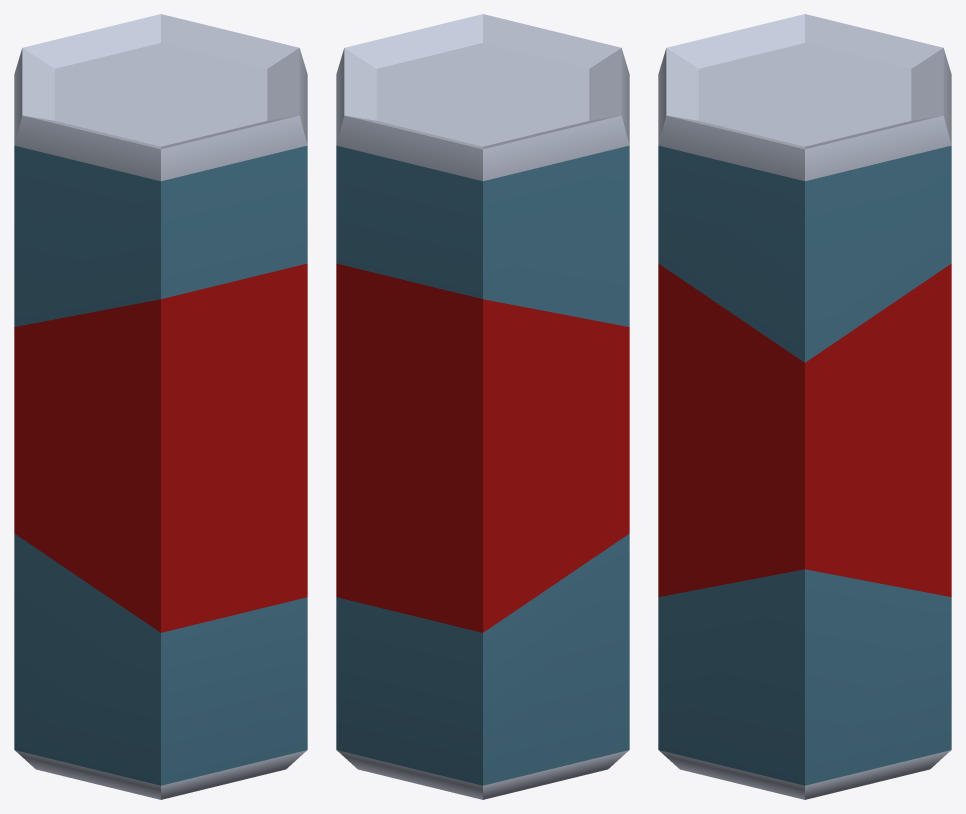
Rendered from SM_Redbull.fbx.
3 views of the same model, side by side, from view 1: azimuth 30°, elevation 25°; view 2: azimuth 150°, elevation 25°; view 3: azimuth 270°, elevation 25° (orthographic).
Parts seen in each view (by area): view 1: BlueCow; view 2: BlueCow; view 3: BlueCow.
Part boxes in pixels (box(x1,y1,x2,y2)): BlueCow: box(14, 14, 307, 799); BlueCow: box(336, 14, 629, 799); BlueCow: box(658, 14, 951, 799).
Bounding box in the file's own units: 14 × 30 × 12.12.
